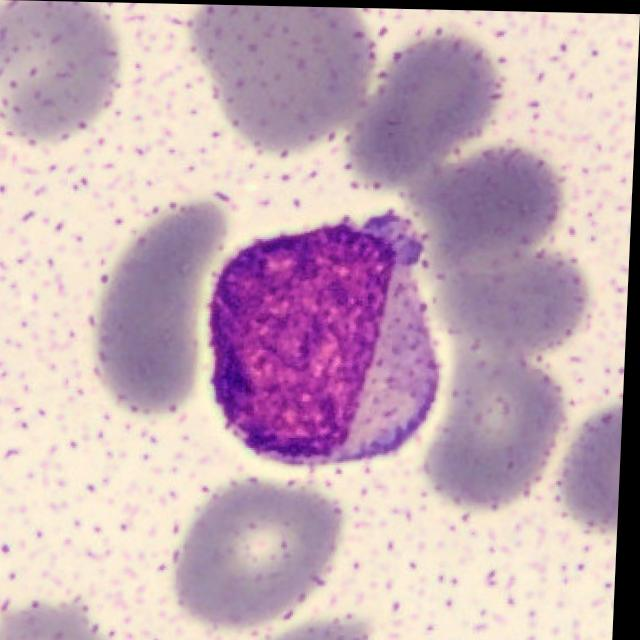Mieloblasto: (210, 208, 447, 465)
